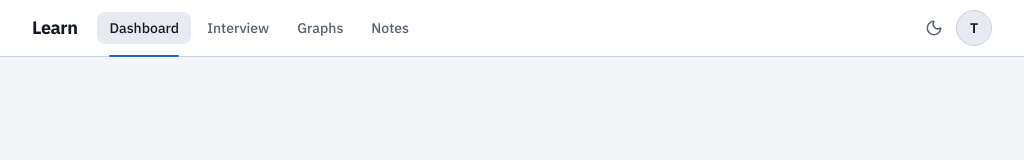
Test: TopBar › offers sign out in the avatar menu
Expected: the button "Sign out" is not shown
Step 1. Click the button named "Account menu" → (974, 28), box [956,10,992,46]
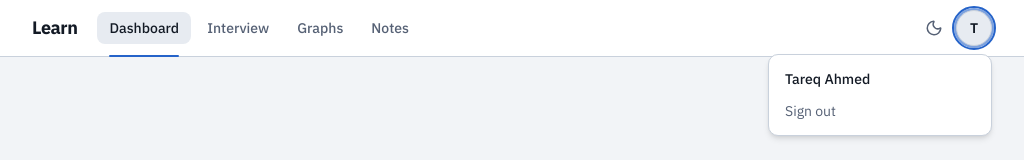
Now the button "Sign out" is shown, box [777,95,983,127]
